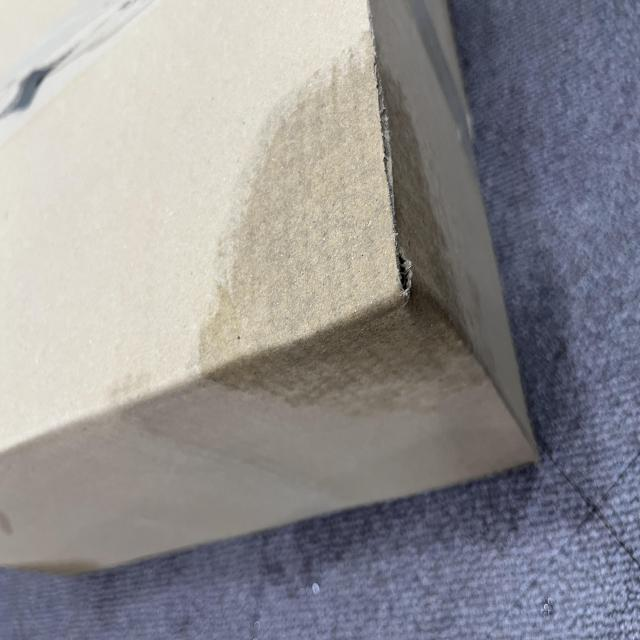wet: (161, 245, 447, 580)
